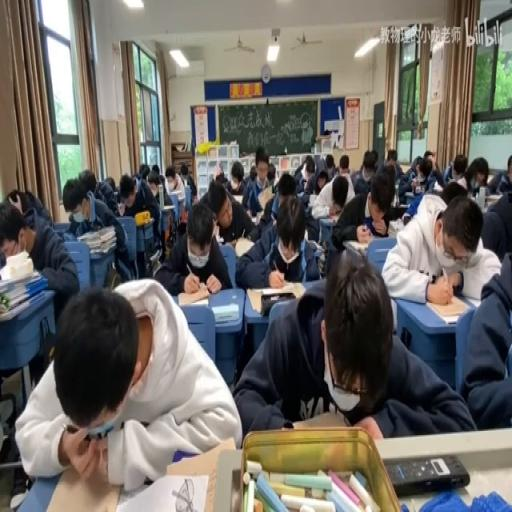calculator: (116, 469, 210, 512), (44, 457, 121, 509), (245, 282, 304, 312), (427, 292, 474, 322), (75, 224, 117, 254), (177, 288, 209, 306), (212, 300, 238, 322), (234, 236, 256, 258), (344, 239, 370, 252), (148, 246, 160, 270), (387, 218, 404, 234), (304, 239, 323, 252), (248, 209, 263, 225), (485, 194, 501, 208), (403, 189, 416, 202), (230, 193, 244, 205), (325, 213, 341, 222), (308, 194, 318, 206), (486, 174, 495, 184), (160, 204, 174, 210), (431, 185, 443, 192), (216, 235, 224, 243)
paper: (18, 276, 238, 489), (232, 250, 466, 440), (382, 188, 500, 304), (0, 196, 78, 333), (234, 191, 320, 287), (154, 198, 230, 294), (330, 168, 401, 249), (118, 171, 163, 267), (479, 164, 512, 263), (242, 148, 276, 215), (397, 154, 435, 202), (300, 155, 326, 202), (444, 152, 470, 186), (223, 158, 245, 195), (378, 147, 403, 179), (177, 162, 195, 201), (439, 181, 467, 206), (468, 168, 490, 195), (275, 171, 295, 199), (331, 174, 347, 206), (78, 169, 96, 195), (212, 164, 229, 188), (324, 151, 338, 179), (363, 151, 378, 172), (497, 173, 512, 192), (6, 186, 20, 205), (338, 154, 350, 174), (294, 159, 306, 179), (147, 178, 160, 196), (266, 165, 276, 186), (138, 162, 150, 179), (103, 174, 115, 189), (418, 164, 428, 179), (422, 151, 433, 162), (131, 174, 139, 189), (249, 164, 256, 180), (151, 163, 160, 175), (165, 176, 174, 188), (306, 162, 314, 175), (387, 155, 394, 164), (509, 155, 512, 171)
person: (386, 452, 470, 494), (402, 213, 411, 225)
